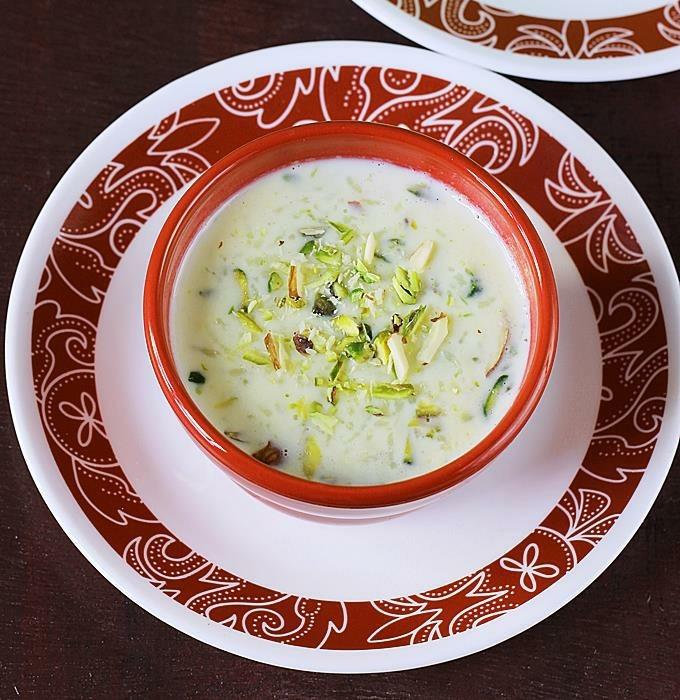Kheer: (170, 159, 529, 485)
